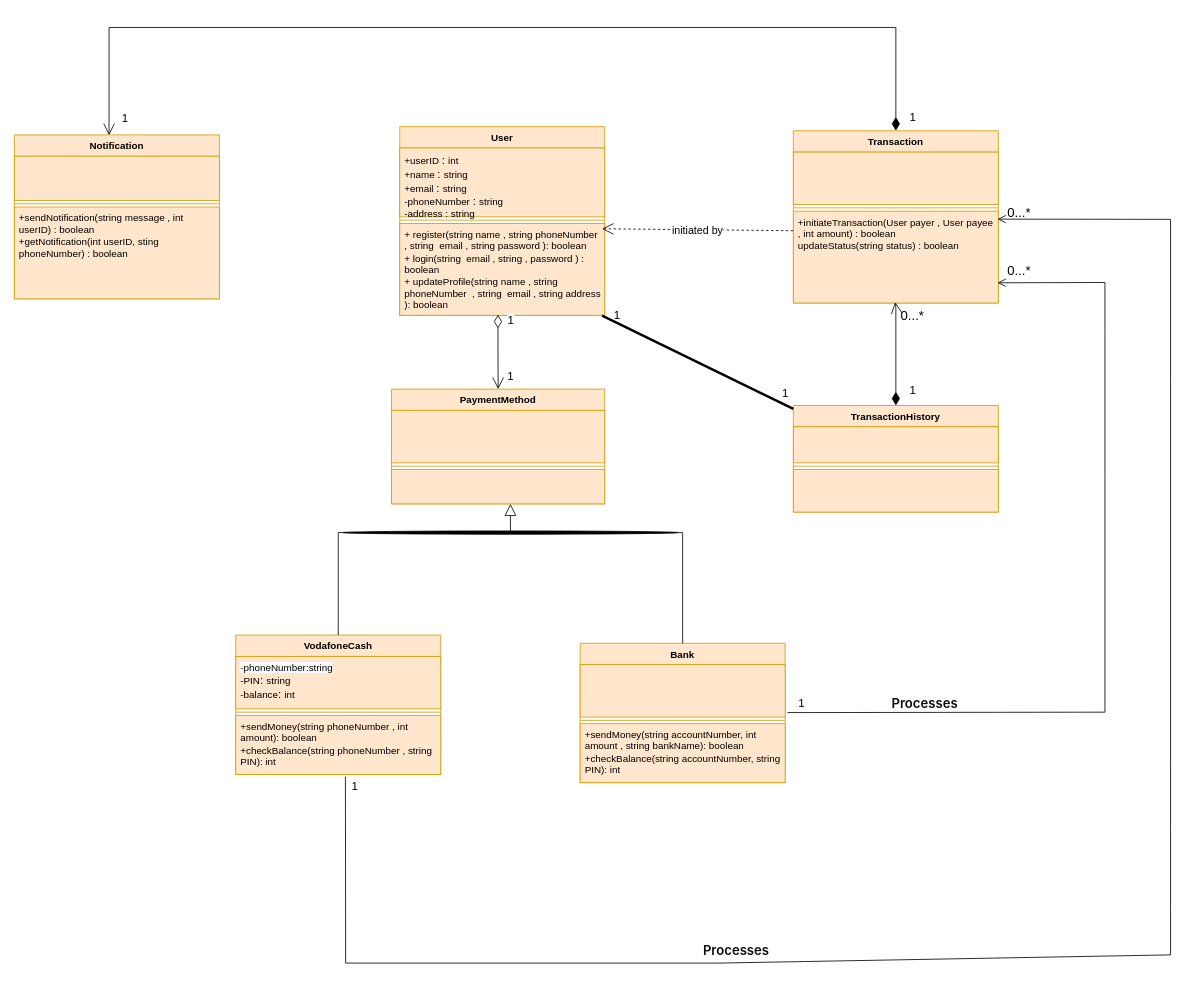
Some shapes in this 1193 by 986 pixel diagram are drawn without their labels. Here are the shapes that lost their labels. From the top down, the centre of each, then its label:
point (116, 177): -notificationID : int -message : string -userID : int
point (895, 178): +transactionID : int +amount : int +status : string
point (498, 436): - paymentID : int +type : string -details : string
point (895, 444): -userID : int -transactionID : int
point (498, 486): +chooseMethod(string type , string details) : void
point (895, 490): +addTransactionRecord(Transaction) : boolean
point (682, 690): - account Number:string -bankName : string -balance : int
